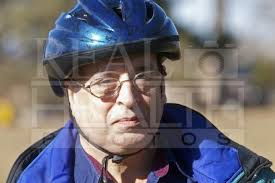helmet: (42, 1, 182, 155)
